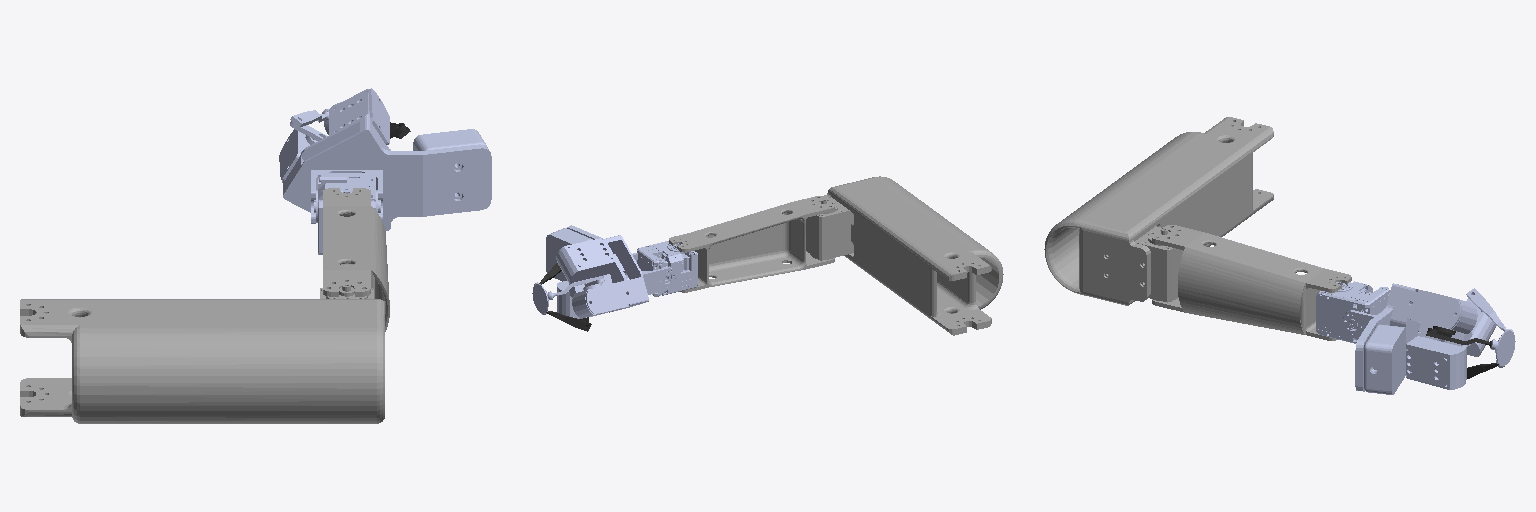
URDF robot description (poll_arm_right):
<?xml version="1.0" encoding="utf-8"?>
<!-- This URDF was automatically created by SolidWorks to URDF Exporter! Originally created by [author] ([email redacted]) 
     Commit Version: 1.6.0-4-g7f85cfe  Build Version: 1.6.7995.38578
     For more information, please see http://wiki.ros.org/sw_urdf_exporter -->
<robot
  name="poll_arm_right">
  <link
    name="base">
    <inertial>
      <origin xyz="0 0 0" rpy="0 0 0"/>
      <mass value=".0001"/>
      <inertia
        ixx="0.0001" ixy="0.0001" ixz="0.0001"
        iyy="0.0001" iyz="0.0001"
        izz="0.0001"/>
    </inertial>
  </link>

  <link
    name="box">
    <inertial>
      <origin
        xyz="-0.0294836466854795 -0.00650699178978333 0.054665921342337"
        rpy="0 0 0" />
      <mass
        value="1.25224595398726" />
      <inertia
        ixx="0.00206596064394956"
        ixy="0.000334896166615364"
        ixz="-0.000136948453654299"
        iyy="0.0035115970252851"
        iyz="-4.17254634185766E-05"
        izz="0.00431158338218049" />
    </inertial>
    <visual>
      <origin
        xyz="0 0 0"
        rpy="0 0 0" />
      <geometry>
        <mesh
          filename="package://poll_arm_right/meshes/box.STL" />
      </geometry>
      <material
        name="">
        <color
          rgba="0.792156862745098 0.819607843137255 0.933333333333333 1" />
      </material>
    </visual>
    <collision>
      <origin
        xyz="0 0 0"
        rpy="0 0 0" />
      <geometry>
        <mesh
          filename="package://poll_arm_right/meshes/box.STL" />
      </geometry>
    </collision>
  </link>
  <joint
    name="slider"
    type="prismatic">
    <origin
      xyz="0 0 0"
      rpy="0 0 0" />
    <parent
      link="base" />
    <child
      link="box" />
    <axis
      xyz="0 0 1" />
    <limit
      lower="0"
      upper="2"
      effort="200"
      velocity="0" />
    <dynamics
      damping="0.2"
      friction="0.2" />
  </joint>
  <link
    name="bicep">
    <inertial>
      <origin
        xyz="0.19577236492752 0.025617006022445 0.031470242482028"
        rpy="0 0 0" />
      <mass
        value="0.0881583450015477" />
      <inertia
        ixx="4.02190655717306E-05"
        ixy="-9.41441514101079E-09"
        ixz="-4.66388635592039E-08"
        iyy="2.35490419805005E-05"
        iyz="-9.36030697866667E-08"
        izz="3.32834464790013E-05" />
    </inertial>
    <visual>
      <origin
        xyz="0 0 0"
        rpy="0 0 0" />
      <geometry>
        <mesh
          filename="package://poll_arm_right/meshes/bicep.STL" />
      </geometry>
      <material
        name="">
        <color
          rgba="0.698039215686274 0.698039215686274 0.698039215686274 1" />
      </material>
    </visual>
    <collision>
      <origin
        xyz="0 0 0"
        rpy="0 0 0" />
      <geometry>
        <mesh
          filename="package://poll_arm_right/meshes/bicep.STL" />
      </geometry>
    </collision>
  </link>
  <link
    name="bicep_fixed">  
  </link>
  <joint
    name="shoulder_fixed"
    type="fixed">
    <origin
      xyz="0.10198 0.044401 0.019165"
      rpy="0 0 0.5236" />
    <parent
      link="box" />
    <child
      link="bicep_fixed" />
  </joint>
  <joint
    name="shoulder"
    type="revolute">
    <origin
      xyz="0.101983673651571 -0.0444010956927517 0.0186529999998991"
      rpy="0 0 -0.523598775598304" />
    <parent
      link="box" />
    <child
      link="bicep" />
    <axis
      xyz="0 0 1" />
    <limit
      lower="-1.57"
      upper="1.57"
      effort="200"
      velocity="0" />
    <dynamics
      damping="0.2"
      friction="0.2" />
  </joint>
  <link
    name="forearm">
    <inertial>
      <origin
        xyz="0.0765243373190801 -0.00763087662935313 0.0278615390492158"
        rpy="0 0 0" />
      <mass
        value="1.58296374201529E-05" />
      <inertia
        ixx="7.67204016309976E-09"
        ixy="5.2280178335773E-11"
        ixz="-2.28428361913132E-12"
        iyy="3.25420777503674E-08"
        iyz="4.95192741612456E-13"
        izz="2.90616522555171E-08" />
    </inertial>
    <visual>
      <origin
        xyz="0 0 0"
        rpy="0 0 0" />
      <geometry>
        <mesh
          filename="package://poll_arm_right/meshes/forearm.STL" />
      </geometry>
      <material
        name="">
        <color
          rgba="0.698039215686274 0.698039215686274 0.698039215686274 1" />
      </material>
    </visual>
    <collision>
      <origin
        xyz="0 0 0"
        rpy="0 0 0" />
      <geometry>
        <mesh
          filename="package://poll_arm_right/meshes/forearm.STL" />
      </geometry>
    </collision>
  </link>
  <joint
    name="elbow"
    type="revolute">
    <origin
      xyz="0.1959 0.0406860000000015 0.00350608116532053"
      rpy="0 0 1.5707963267949" />
    <parent
      link="bicep" />
    <child
      link="forearm" />
    <axis
      xyz="0 0 1" />
    <limit
      lower="-1.57"
      upper="1.57"
      effort="200"
      velocity="0" />
    <dynamics
      damping="0.2"
      friction="0.2" />
  </joint>
  <link
    name="w1_link">
    <inertial>
      <origin
        xyz="0.0119998492953422 -0.000549087822445449 0.0216260058358662"
        rpy="0 0 0" />
      <mass
        value="0.0565320862795783" />
      <inertia
        ixx="1.0226625085126E-05"
        ixy="6.10475234160948E-10"
        ixz="-7.97796107526925E-10"
        iyy="1.43894864274769E-05"
        iyz="3.44003507752819E-07"
        izz="1.4389503019841E-05" />
    </inertial>
    <visual>
      <origin
        xyz="0 0 0"
        rpy="0 0 0" />
      <geometry>
        <mesh
          filename="package://poll_arm_right/meshes/w1_link.STL" />
      </geometry>
      <material
        name="">
        <color
          rgba="0.792156862745098 0.819607843137255 0.933333333333333 1" />
      </material>
    </visual>
    <collision>
      <origin
        xyz="0 0 0"
        rpy="0 0 0" />
      <geometry>
        <mesh
          filename="package://poll_arm_right/meshes/w1_link.STL" />
      </geometry>
    </collision>
  </link>
  <joint
    name="w1"
    type="revolute">
    <origin
      xyz="0.154351347 0 0.00586118891519596"
      rpy="0 0 0" />
    <parent
      link="forearm" />
    <child
      link="w1_link" />
    <axis
      xyz="0 0 1" />
    <limit
      lower="-1.57"
      upper="1.57"
      effort="200"
      velocity="0" />
    <dynamics
      damping="0.2"
      friction="0.2" />
  </joint>
  <link
    name="w2_link">
    <inertial>
      <origin
        xyz="0.0566451733011976 -0.00141725658574912 0.0284323416048118"
        rpy="0 0 0" />
      <mass
        value="0.153757182920479" />
      <inertia
        ixx="9.61201704567482E-05"
        ixy="-2.53181854057694E-06"
        ixz="1.28235405708061E-05"
        iyy="0.000113585627853035"
        iyz="-2.70973268265225E-06"
        izz="6.51970121574257E-05" />
    </inertial>
    <visual>
      <origin
        xyz="0 0 0"
        rpy="0 0 0" />
      <geometry>
        <mesh
          filename="package://poll_arm_right/meshes/w2_link.STL" />
      </geometry>
      <material
        name="">
        <color
          rgba="0.792156862745098 0.819607843137255 0.933333333333333 1" />
      </material>
    </visual>
    <collision>
      <origin
        xyz="0 0 0"
        rpy="0 0 0" />
      <geometry>
        <mesh
          filename="package://poll_arm_right/meshes/w2_link.STL" />
      </geometry>
    </collision>
  </link>
  <joint
    name="w2"
    type="revolute">
    <origin
      xyz="0.0240000007161376 0.0221999998475506 0.0221750001524488"
      rpy="1.57079632679489 0 0" />
    <parent
      link="w1_link" />
    <child
      link="w2_link" />
    <axis
      xyz="0 0 1" />
    <limit
      lower="-1.57"
      upper="1.57"
      effort="200"
      velocity="0" />
    <dynamics
      damping="0.2"
      friction="0.2" />
  </joint>
  <link
    name="cam_link">
    <inertial>
      <origin
        xyz="-0.0113814657659484 -3.7765632954212E-08 -8.96828082674883E-05"
        rpy="0 0 0" />
      <mass
        value="0.0394840464043759" />
      <inertia
        ixx="1.13008734896739E-05"
        ixy="-1.18403271942562E-12"
        ixz="-1.11849815558335E-08"
        iyy="7.34442345562824E-06"
        iyz="2.14724251236641E-11"
        izz="7.39890475454631E-06" />
    </inertial>
    <visual>
      <origin
        xyz="0 0 0"
        rpy="0 0 0" />
      <geometry>
        <mesh
          filename="package://poll_arm_right/meshes/cam_link.STL" />
      </geometry>
      <material
        name="">
        <color
          rgba="0.792156862745098 0.819607843137255 0.933333333333333 1" />
      </material>
    </visual>
    <collision>
      <origin
        xyz="0 0 0"
        rpy="0 0 0" />
      <geometry>
        <mesh
          filename="package://poll_arm_right/meshes/cam_link.STL" />
      </geometry>
    </collision>
  </link>
  <joint
    name="cam_joint"
    type="fixed">
    <origin
      xyz="0.063863151034262 0 0.0834316043147122"
      rpy="0 0.26179938779915 0" />
    <parent
      link="w2_link" />
    <child
      link="cam_link" />
    <axis
      xyz="0 0 0" />
  </joint>
  <link
    name="e1_link">
    <inertial>
      <origin
        xyz="0.00768377159854672 0.00530600599131259 -0.000730992899423522"
        rpy="0 0 0" />
      <mass
        value="0.00225996756513805" />
      <inertia
        ixx="1.30412723697187E-07"
        ixy="9.73218559749733E-08"
        ixz="2.16169394663048E-08"
        iyy="1.966205244536E-07"
        iyz="-1.2986245459416E-08"
        izz="3.15647081687985E-07" />
    </inertial>
    <visual>
      <origin
        xyz="0 0 0"
        rpy="0 0 0" />
      <geometry>
        <mesh
          filename="package://poll_arm_right/meshes/e1_link.STL" />
      </geometry>
      <material
        name="">
        <color
          rgba="0.792156862745098 0.819607843137255 0.933333333333333 1" />
      </material>
    </visual>
    <collision>
      <origin
        xyz="0 0 0"
        rpy="0 0 0" />
      <geometry>
        <mesh
          filename="package://poll_arm_right/meshes/e1_link.STL" />
      </geometry>
    </collision>
  </link>
  <joint
    name="e1"
    type="revolute">
    <origin
      xyz="0.0769999999999999 0.0112634866641177 0.00700070249463941"
      rpy="-1.0471975511966 0 0" />
    <parent
      link="w2_link" />
    <child
      link="e1_link" />
    <axis
      xyz="0 0 1" />
    <limit
      lower="-1.57"
      upper="1.57"
      effort="200"
      velocity="0" />
    <dynamics
      damping="0.2"
      friction="0.2" />
  </joint>
  <link
    name="e2_link">
    <inertial>
      <origin
        xyz="0.0076837715993977 0.00530600599028458 -0.000730992897713667"
        rpy="0 0 0" />
      <mass
        value="0.00225996756505407" />
      <inertia
        ixx="1.30412723709295E-07"
        ixy="9.73218559904026E-08"
        ixz="2.16169394327849E-08"
        iyy="1.96620524444531E-07"
        iyz="-1.2986245443103E-08"
        izz="3.15647081713528E-07" />
    </inertial>
    <visual>
      <origin
        xyz="0 0 0"
        rpy="0 0 0" />
      <geometry>
        <mesh
          filename="package://poll_arm_right/meshes/e2_link.STL" />
      </geometry>
      <material
        name="">
        <color
          rgba="0.250980392156863 0.250980392156863 0.250980392156863 1" />
      </material>
    </visual>
    <collision>
      <origin
        xyz="0 0 0"
        rpy="0 0 0" />
      <geometry>
        <mesh
          filename="package://poll_arm_right/meshes/e2_link.STL" />
      </geometry>
    </collision>
  </link>
  <joint
    name="e2"
    type="revolute">
    <origin
      xyz="0.077 0.0074446 0.039404"
      rpy="1.0472 0 0" />
    <parent
      link="w2_link" />
    <child
      link="e2_link" />
    <axis
      xyz="0 0 1" />
    <limit
      lower="-1.57"
      upper="1.57"
      effort="200"
      velocity="0" />
    <dynamics
      damping="0.2"
      friction="0.2" />
  </joint>
  <link
    name="e3_link">
    <inertial>
      <origin
        xyz="0.00768377159880046 0.00530600599161379 -0.000730992902174266"
        rpy="0 0 0" />
      <mass
        value="0.00225996756527348" />
      <inertia
        ixx="1.30412723718879E-07"
        ixy="9.73218559573204E-08"
        ixz="2.16169395180174E-08"
        iyy="1.96620524429934E-07"
        iyz="-1.2986245490849E-08"
        izz="3.15647081641822E-07" />
    </inertial>
    <visual>
      <origin
        xyz="0 0 0"
        rpy="0 0 0" />
      <geometry>
        <mesh
          filename="package://poll_arm_right/meshes/e3_link.STL" />
      </geometry>
      <material
        name="">
        <color
          rgba="0.250980392156863 0.250980392156863 0.250980392156863 1" />
      </material>
    </visual>
    <collision>
      <origin
        xyz="0 0 0"
        rpy="0 0 0" />
      <geometry>
        <mesh
          filename="package://poll_arm_right/meshes/e3_link.STL" />
      </geometry>
    </collision>
  </link>
  <joint
    name="e3"
    type="revolute">
    <origin
      xyz="0.077000000000051 -0.0187081185534836 0.0198951831632689"
      rpy="3.14159265358979 0 0" />
    <parent
      link="w2_link" />
    <child
      link="e3_link" />
    <axis
      xyz="0 0 1" />
    <limit
      lower="-1.57"
      upper="1.57"
      effort="200"
      velocity="0" />
    <dynamics
      damping="0.2"
      friction="0.2" />
  </joint>
  <link
    name="end_link">
    <inertial>
      <origin
        xyz="-0.00224236893916036 -3.51872006532084E-08 3.59307923136765E-08"
        rpy="0 0 0" />
      <mass
        value="0.00244973338644466" />
      <inertia
        ixx="2.17281683587081E-07"
        ixy="1.95917302230901E-13"
        ixz="-3.07605742822788E-13"
        iyy="1.14231479742373E-07"
        iyz="9.90134628090014E-13"
        izz="1.14231411420647E-07" />
    </inertial>
    <visual>
      <origin
        xyz="0 0 0"
        rpy="0 0 0" />
      <geometry>
        <mesh
          filename="package://poll_arm_right/meshes/end_link.STL" />
      </geometry>
      <material
        name="">
        <color
          rgba="0.792156862745098 0.819607843137255 0.933333333333333 1" />
      </material>
    </visual>
    <collision>
      <origin
        xyz="0 0 0"
        rpy="0 0 0" />
      <geometry>
        <mesh
          filename="package://poll_arm_right/meshes/end_link.STL" />
      </geometry>
    </collision>
  </link>
  <joint
    name="end_joint"
    type="fixed">
    <origin
      xyz="0.122934886777477 0 0.0220999999985055"
      rpy="-1.57079632679491 0 0" />
    <parent
      link="w2_link" />
    <child
      link="end_link" />
    <axis
      xyz="0 0 0" />
  </joint>
</robot>

--- What the picture shows (computed from the rendered views, not written in the file) ---
The picture shows the robot from 3 angles, left to right: view 1: azimuth 30°, elevation 25°; view 2: azimuth 150°, elevation 25°; view 3: azimuth 270°, elevation 25°; orthographic projection.
Model poll_arm_right with 12 links and 11 joints (7 revolute, 1 prismatic, 3 fixed), rooted at base, posed all joints at 0.
Visible links, largest first — view 1: bicep, w2_link, forearm, w1_link, cam_link, e1_link; view 2: bicep, forearm, w2_link, w1_link, cam_link; view 3: bicep, forearm, w2_link, w1_link, cam_link, end_link.
Link boxes in pixels (x1,y1,x2,y2): bicep: (20,284,384,423); w2_link: (279,88,491,230); forearm: (323,188,389,331); w1_link: (314,173,380,254); cam_link: (413,129,487,194); e1_link: (290,110,328,144); bicep: (806,176,1003,335); forearm: (669,196,834,292); w2_link: (556,225,670,318); w1_link: (637,241,697,296); cam_link: (546,228,592,281); bicep: (1044,117,1273,305); forearm: (1152,225,1351,340); w2_link: (1349,283,1495,391); w1_link: (1316,281,1389,343); cam_link: (1364,324,1405,394); end_link: (1490,329,1515,367).
Size in the robot's own frame: 0.3984 by 0.3598 by 0.0815 metres.
9 mesh visuals loaded from 10 distinct referenced files (9 binary STL); not drawn: 1 (reference not matched to a file when rendering).